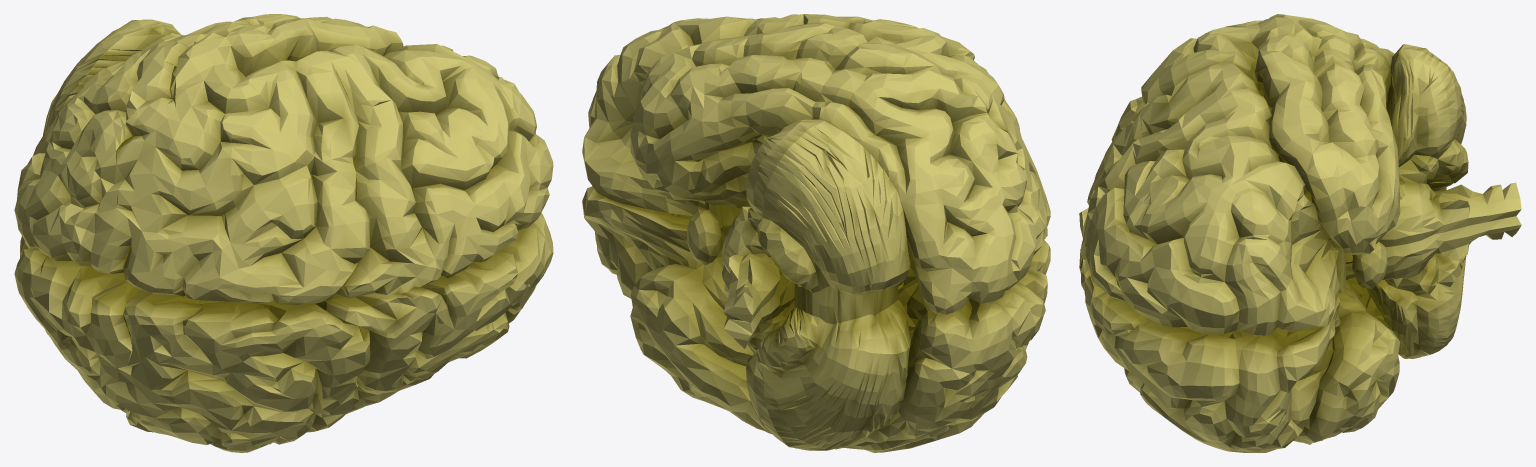
The picture shows the model from 3 angles, left to right: view 1: azimuth 30°, elevation 25°; view 2: azimuth 150°, elevation 25°; view 3: azimuth 270°, elevation 25°; orthographic projection. The views are drawn at different scales.
Bounding box in the file's own units: 6.42 × 5.28 × 5.62.
